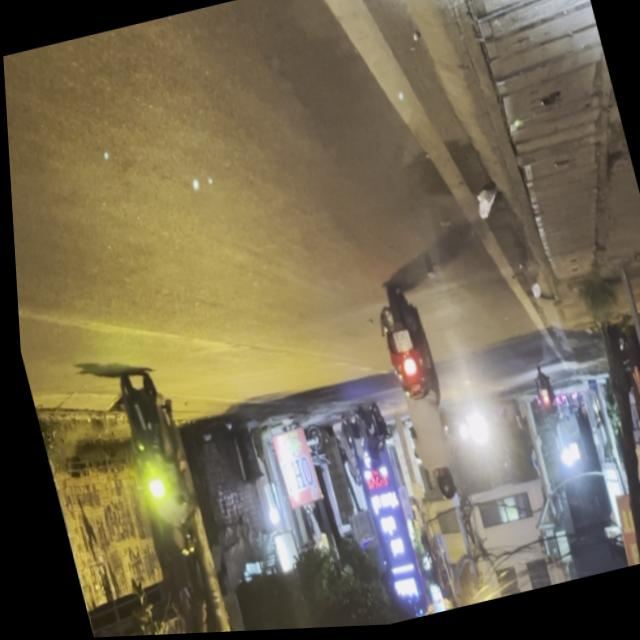helmet: (426, 471, 452, 509), (163, 525, 188, 561)
licenseplate: (362, 282, 467, 517), (103, 362, 205, 568)
nohelmet: (387, 334, 409, 359)
